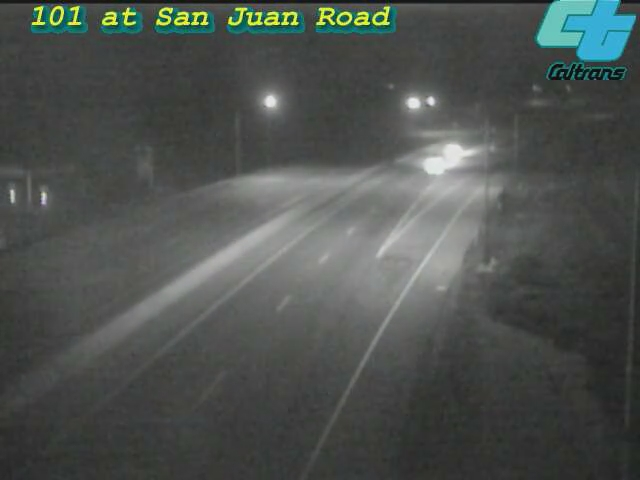vehicle: (414, 111, 494, 191), (396, 125, 476, 205)
